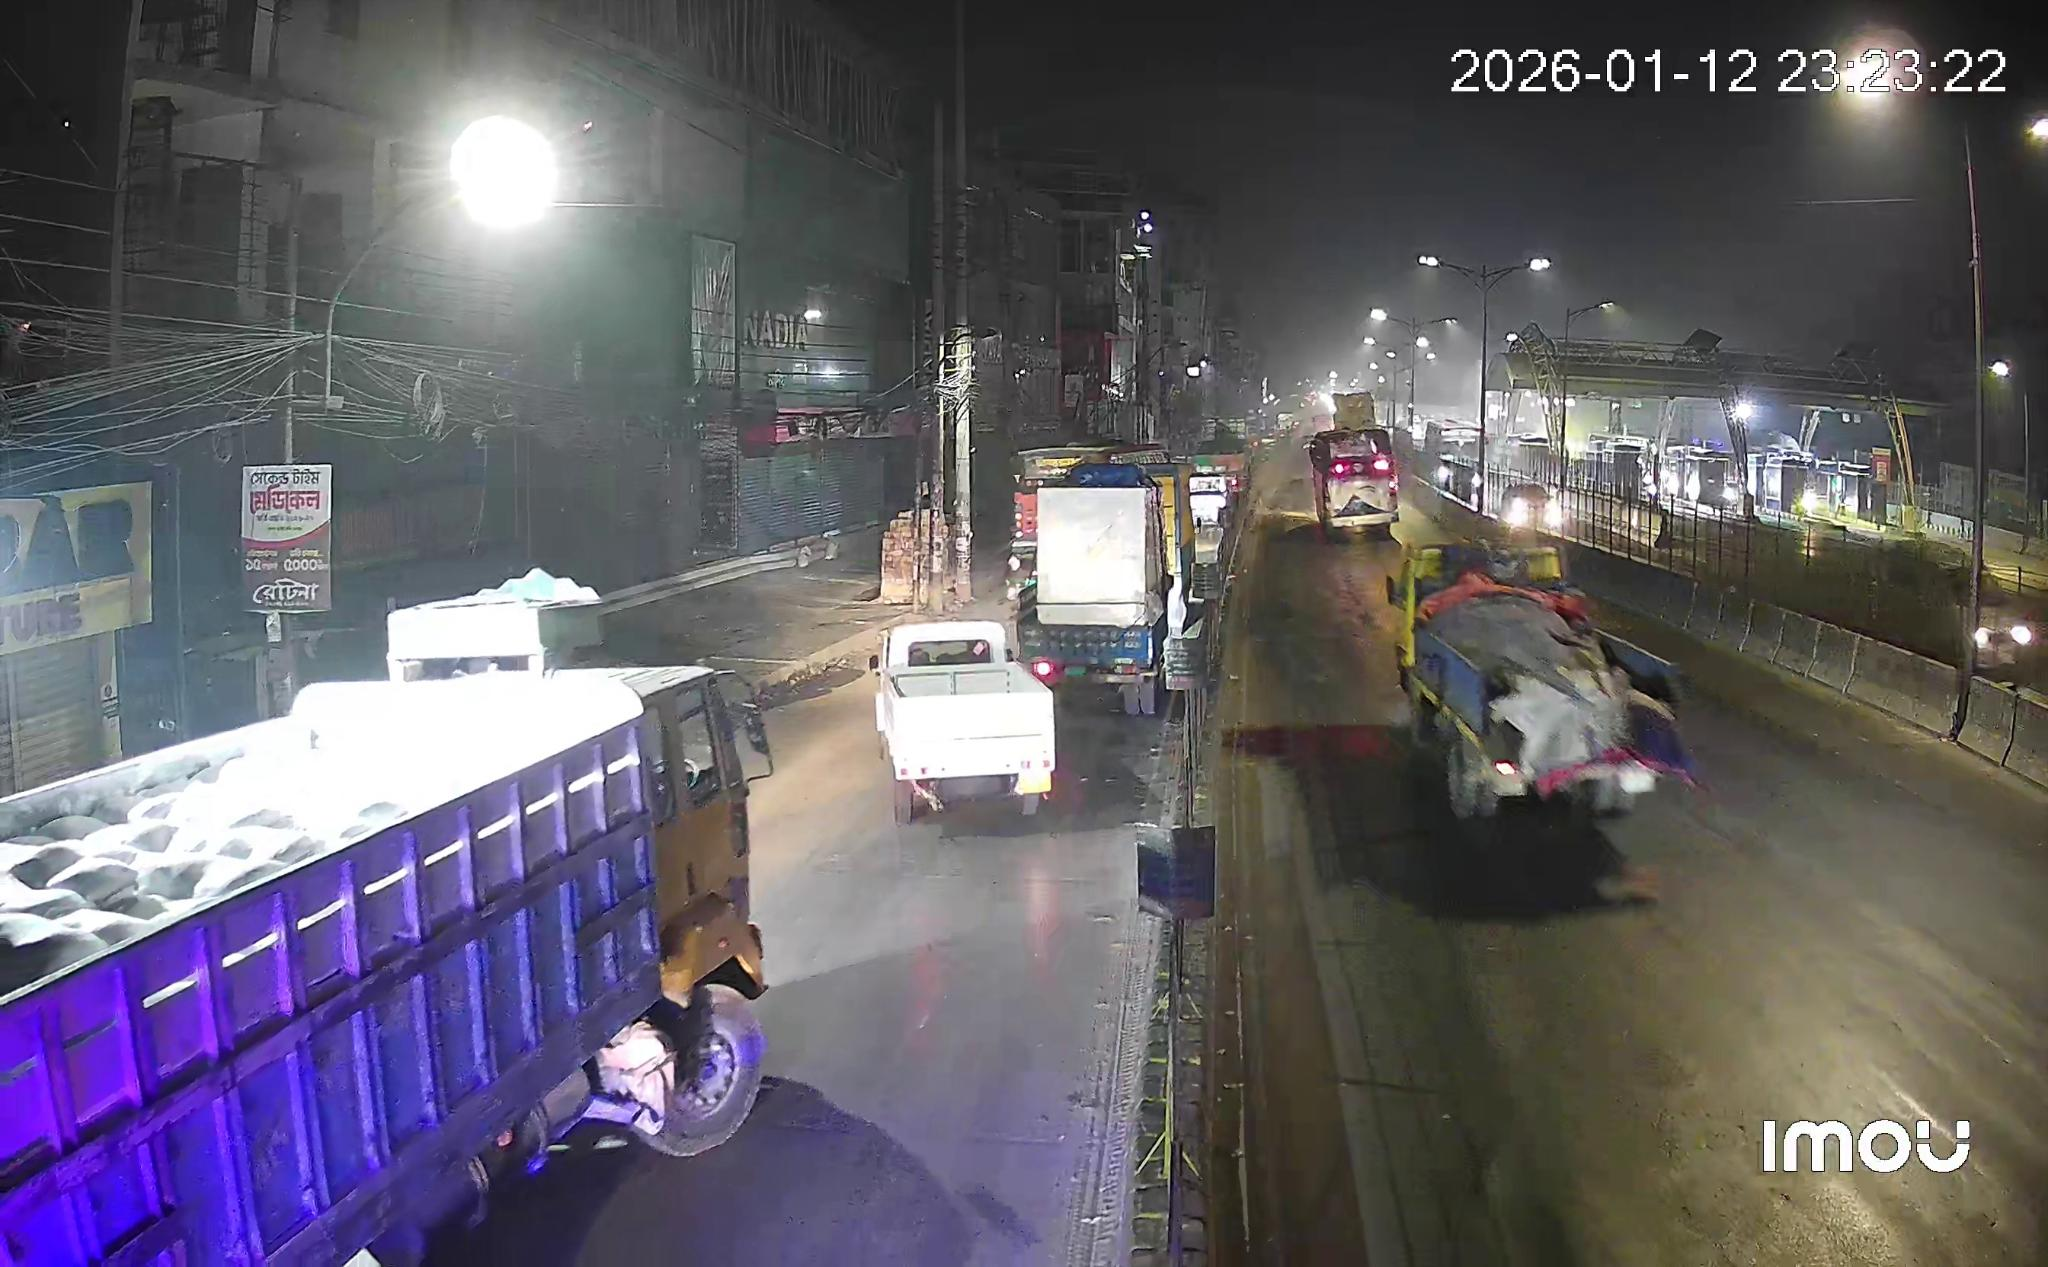Bus: (1308, 426, 1398, 537)
Truck: (0, 591, 772, 1267), (1387, 543, 1691, 818), (1018, 464, 1186, 715), (869, 620, 1056, 825)
